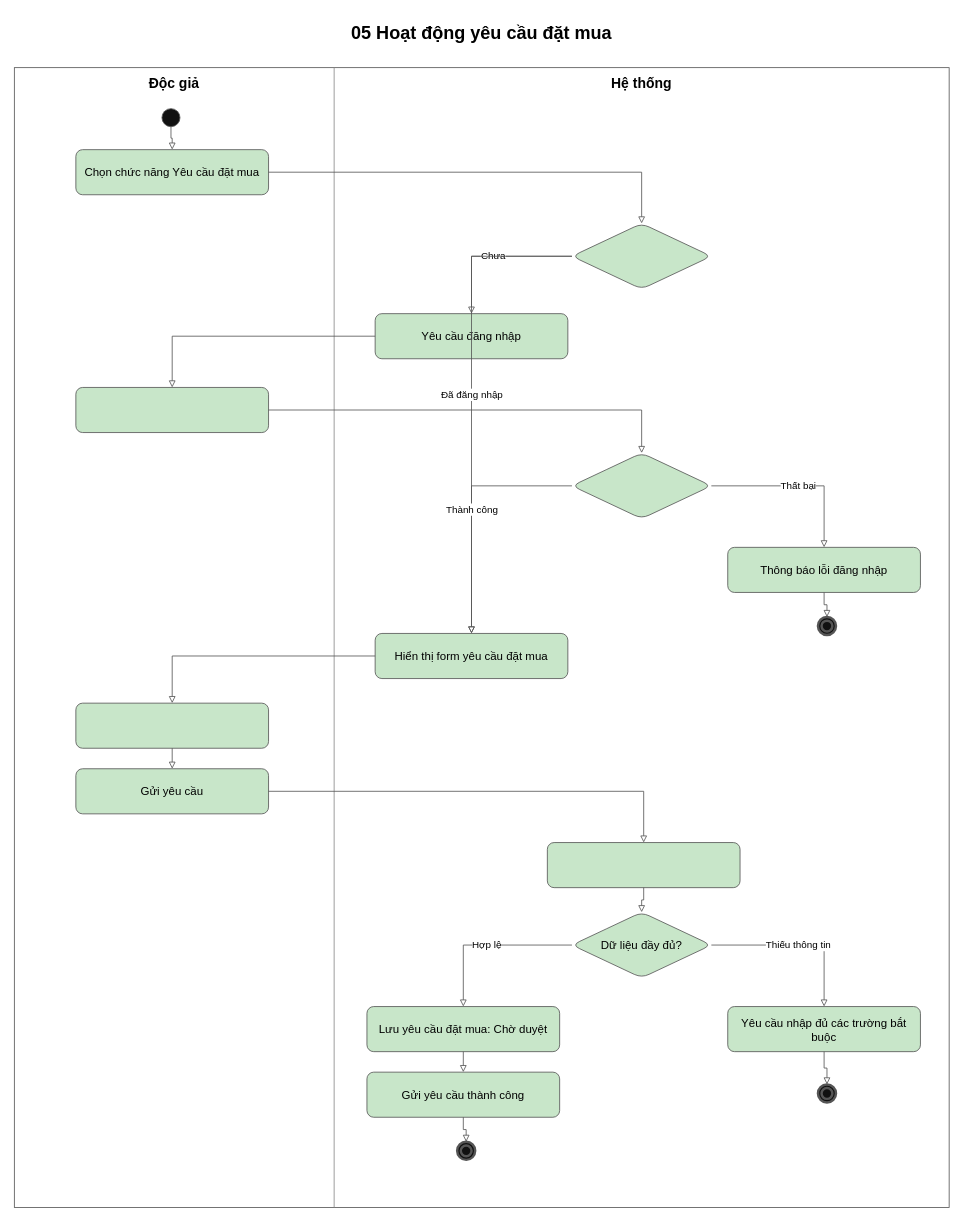
Some shapes in this 964 by 1223 pixel diagram are drawn without their labels. Each missing label, with the box of its shape:
Kiểm tra thông tin nhập: (547, 842, 740, 888)
Nhập tên sách, tác giả, năm xuất bản: (75, 702, 269, 748)
Nhập Tên đăng nhập và Mật khẩu: (75, 387, 269, 433)
Đã đăng nhập?: (571, 223, 711, 289)
Đăng nhập đúng?: (571, 452, 711, 519)
